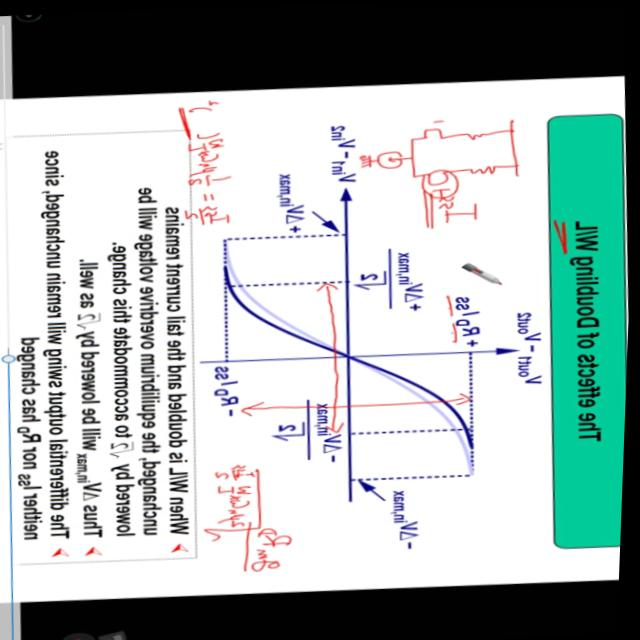panseo: (348, 95, 545, 249), (193, 454, 312, 587), (160, 91, 245, 238)
